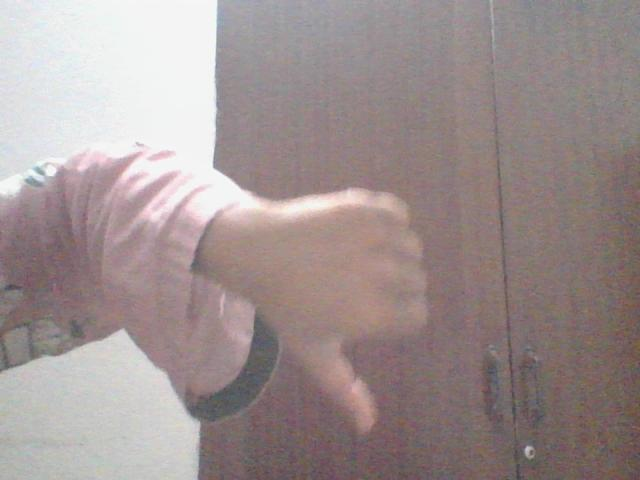thumbs-down: (283, 190, 440, 436)
